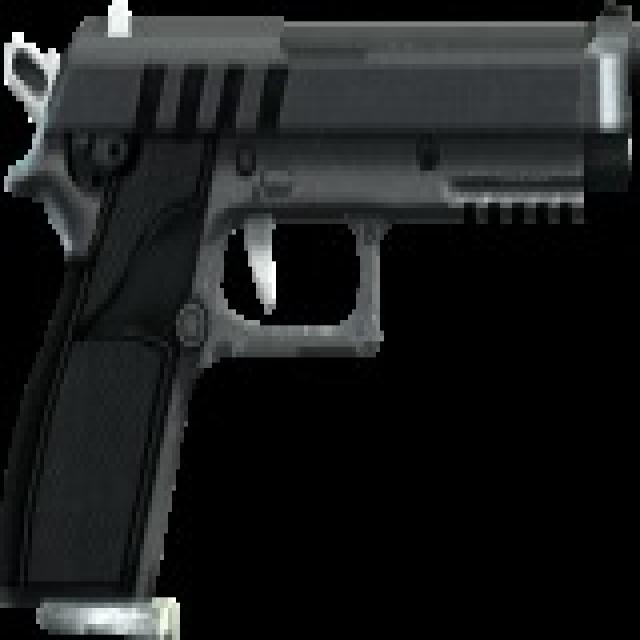Gun: (12, 6, 630, 608)
